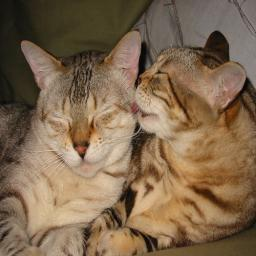catnose: (74, 144, 88, 160), (136, 75, 145, 86)
